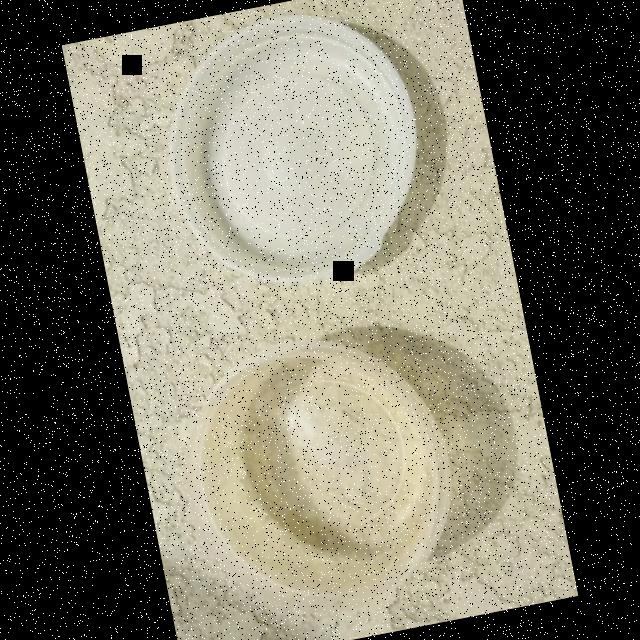plastic_box: (158, 311, 478, 640), (141, 0, 447, 309)
